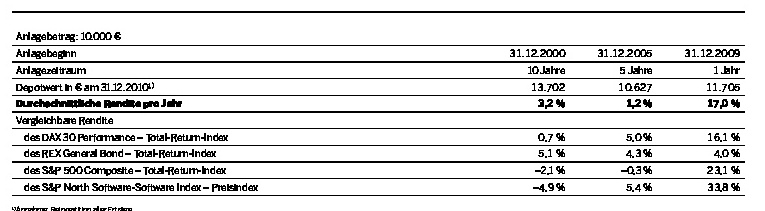table: (0, 0, 765, 211)
